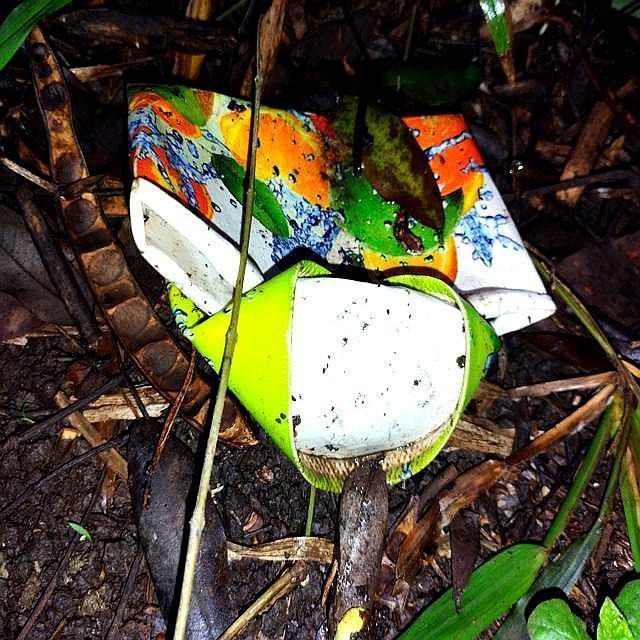Biodegradable: (129, 83, 559, 489)
